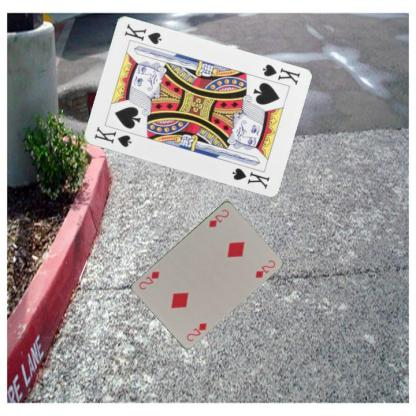2d: (184, 320, 208, 343), (206, 206, 230, 228)
Ks: (259, 61, 301, 87), (91, 124, 133, 149)
